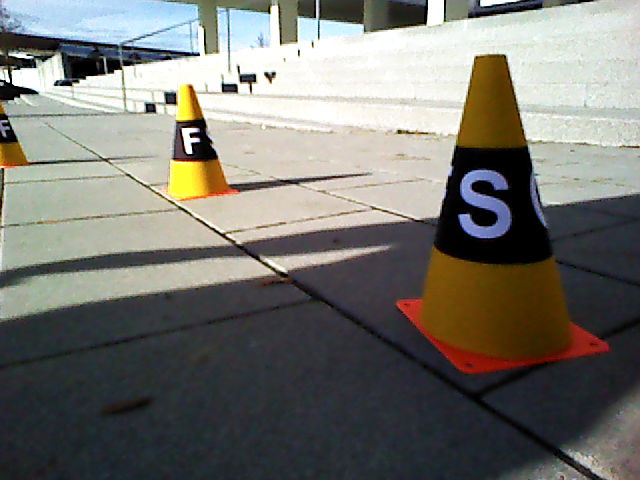yellowcone: (427, 54, 572, 348), (167, 85, 227, 194), (1, 100, 27, 165)
